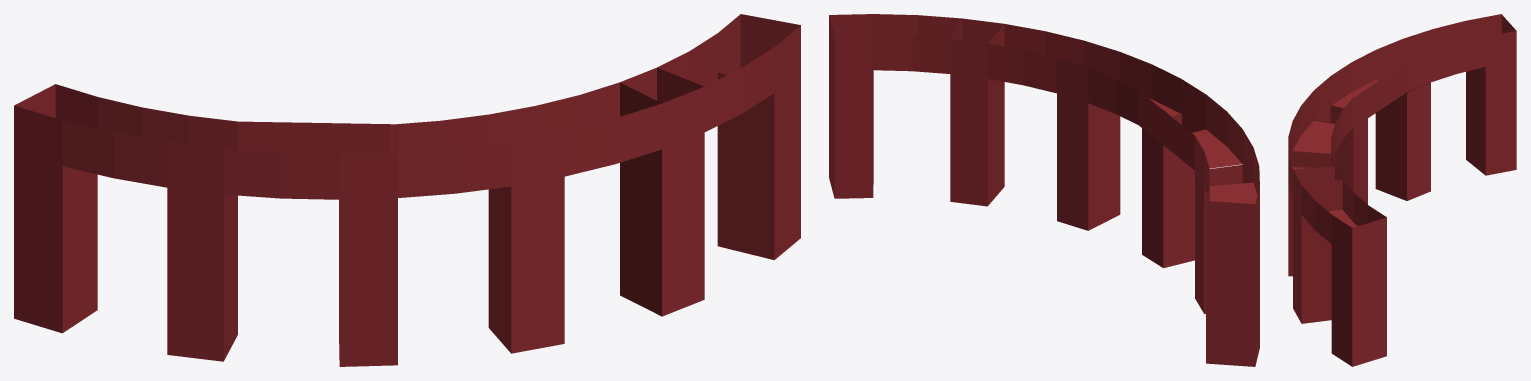
File: if_monument.glb
The picture shows the model from 3 angles, left to right: view 1: azimuth 30°, elevation 25°; view 2: azimuth 150°, elevation 25°; view 3: azimuth 270°, elevation 25°; orthographic projection. The views are drawn at different scales.
Visible parts, largest first — view 1: monumento; view 2: monumento; view 3: monumento.
Part boxes in pixels (x1,y1,x2,y2): monumento: [14, 14, 800, 366]; monumento: [829, 14, 1259, 366]; monumento: [1288, 14, 1516, 366].
Bounding box in the file's own units: 6.6 × 2 × 2.98.
